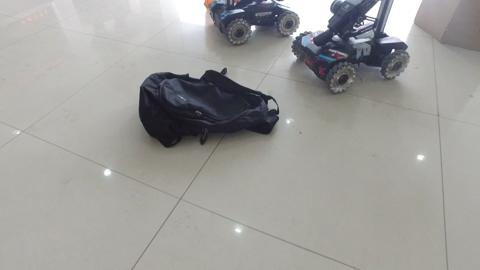bag: (140, 73, 278, 144)
chariot: (293, 1, 412, 95), (210, 1, 298, 43)
